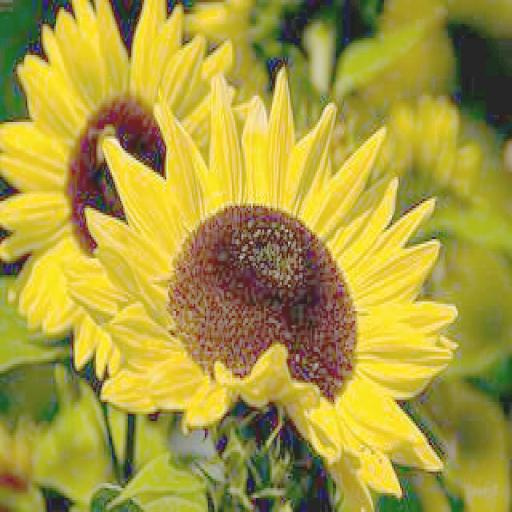sunflower: (74, 67, 456, 512)
